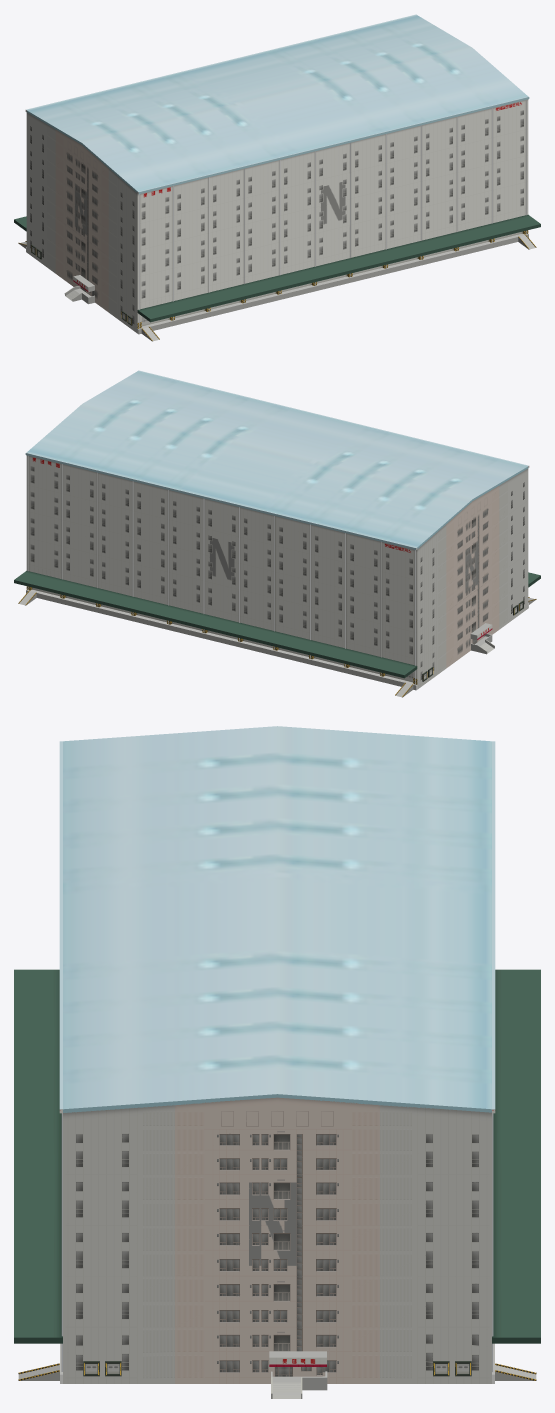
File: warehouse3.DAE
The picture shows the model from 3 angles, top to bottom: view 1: azimuth 30°, elevation 25°; view 2: azimuth 150°, elevation 25°; view 3: azimuth 270°, elevation 25°; orthographic projection. The views are drawn at different scales.
Parts seen in each view (by area): view 1: building_N; view 2: building_N; view 3: building_N.
Boxes of the visible parts, <box> form: building_N: <box>14,14,540,341</box>; building_N: <box>14,370,540,697</box>; building_N: <box>14,726,540,1398</box>.
Bounding box in the file's own units: 603 × 205 × 338.
